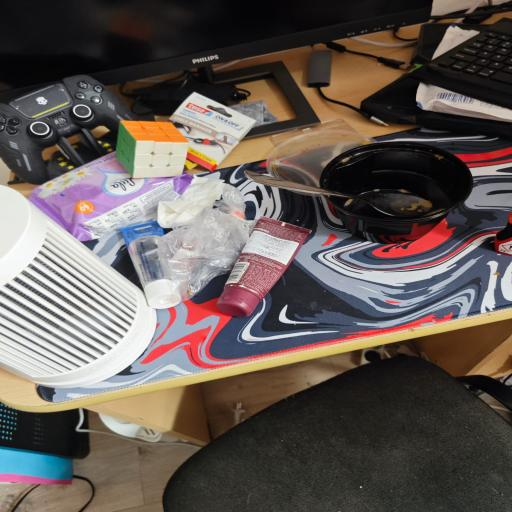Crema Maini: (217, 216, 307, 316)
Rubiks Cube: (110, 112, 188, 180)
Super Glue: (491, 204, 512, 262)
